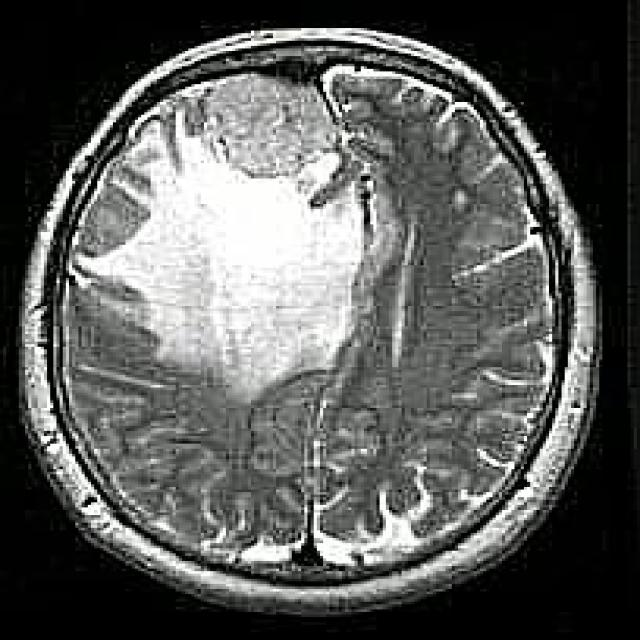Tumor-Cell: (97, 136, 402, 394)
